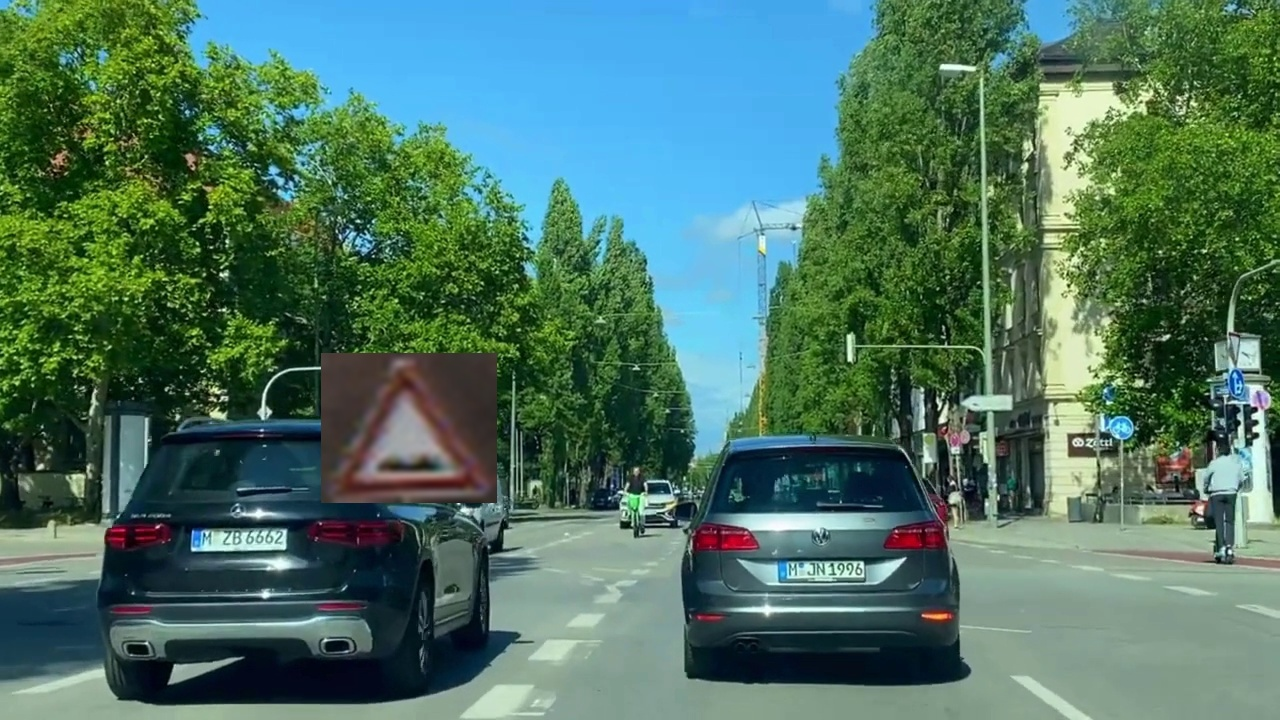Bumpy road: (321, 353, 497, 503)
